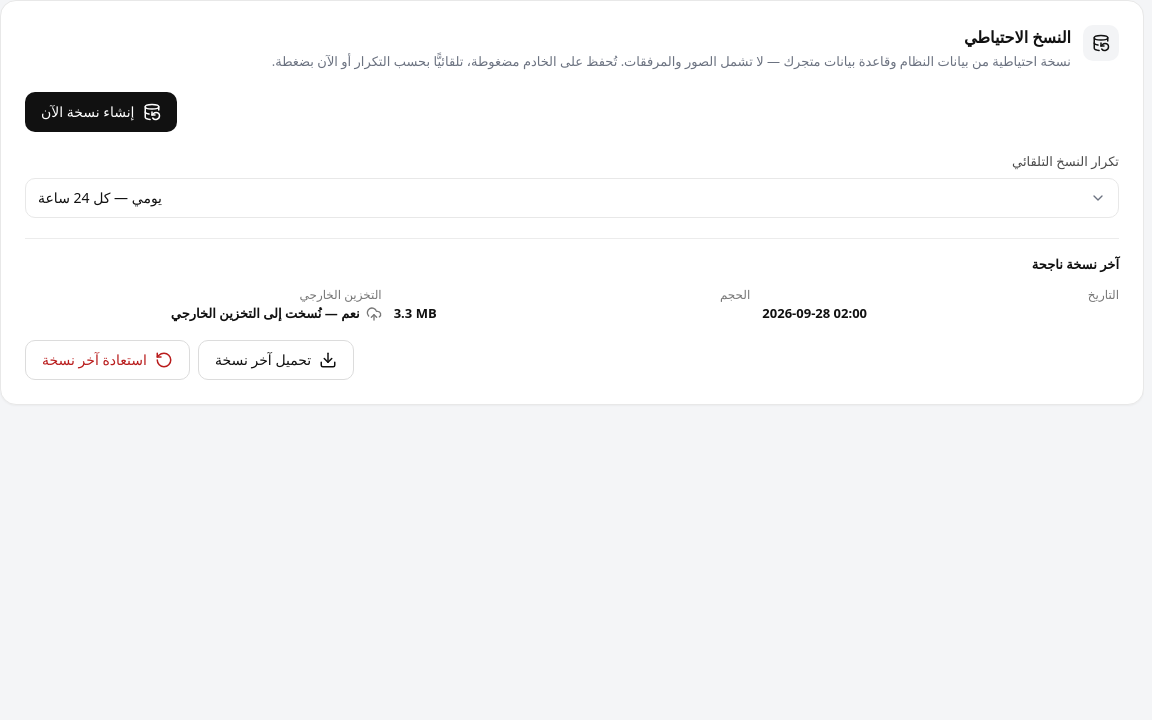
Test case: واجهةٌ واحدة لا واجهتان › وما يردّه الخادمُ خطأً يُقرأ تحت الأزرار
Click the button "استعادة آخر نسخة": (107, 360) [25,340,190,380]
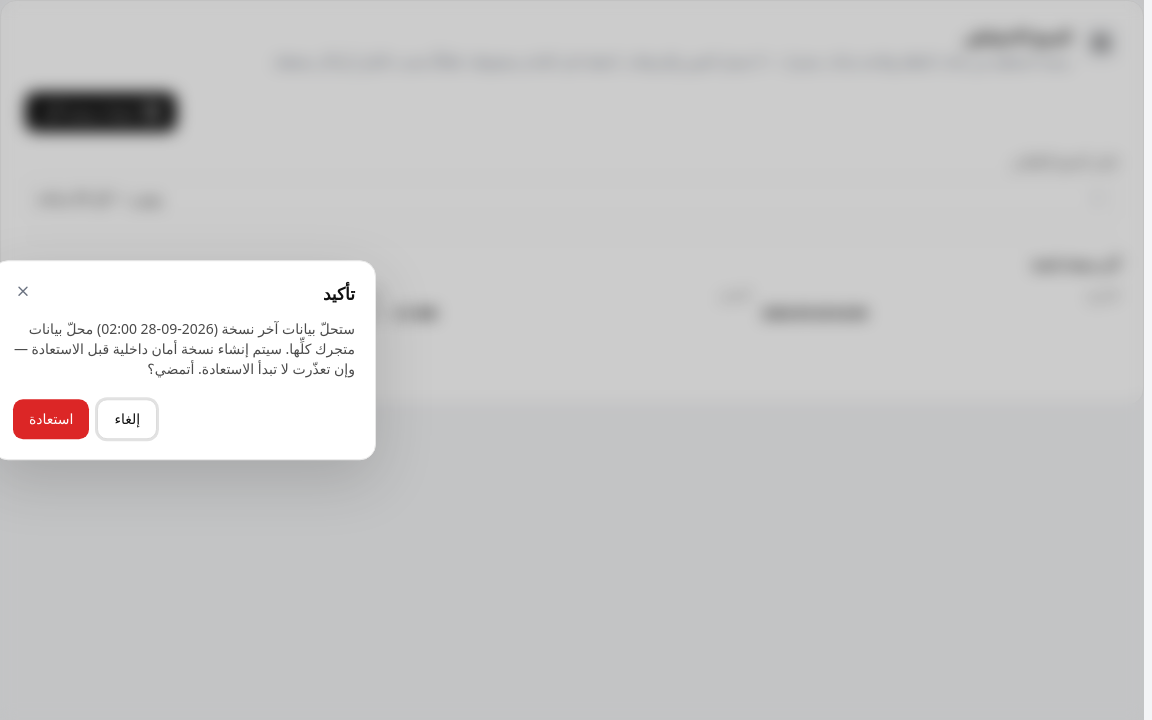
Click the button "استعادة": (51, 419) [13,399,89,439]
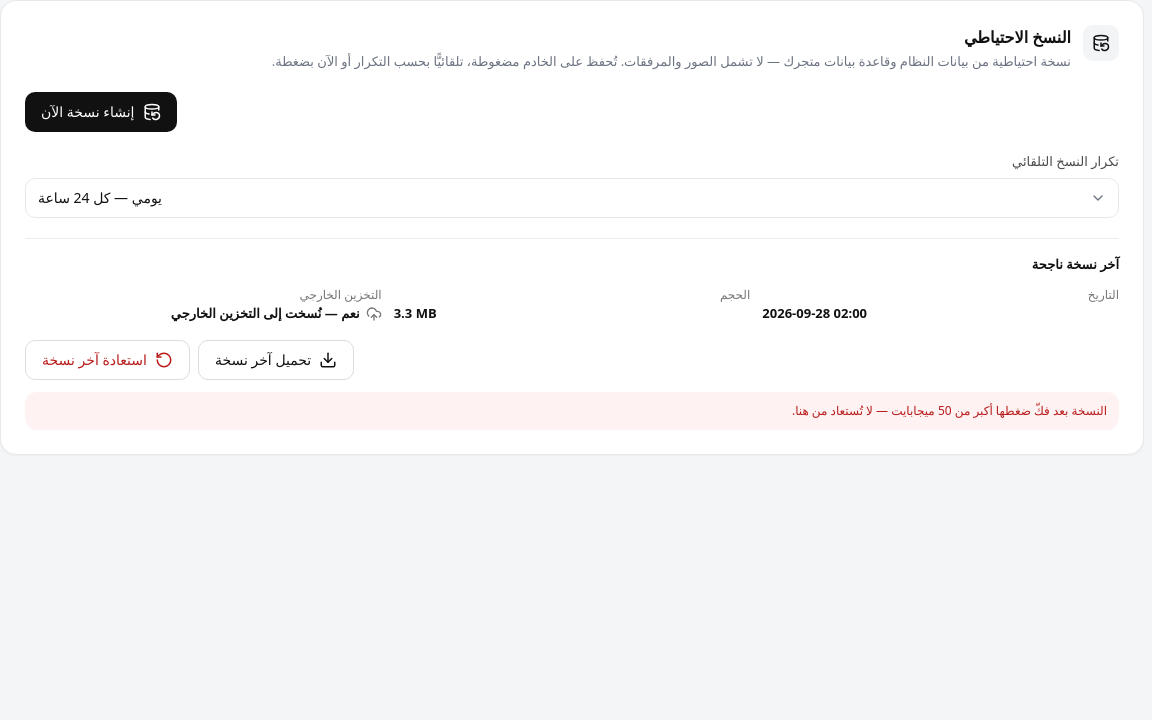
Expected: the message shows "أكبر من 50 ميجابايت", [792,402,1107,419]
